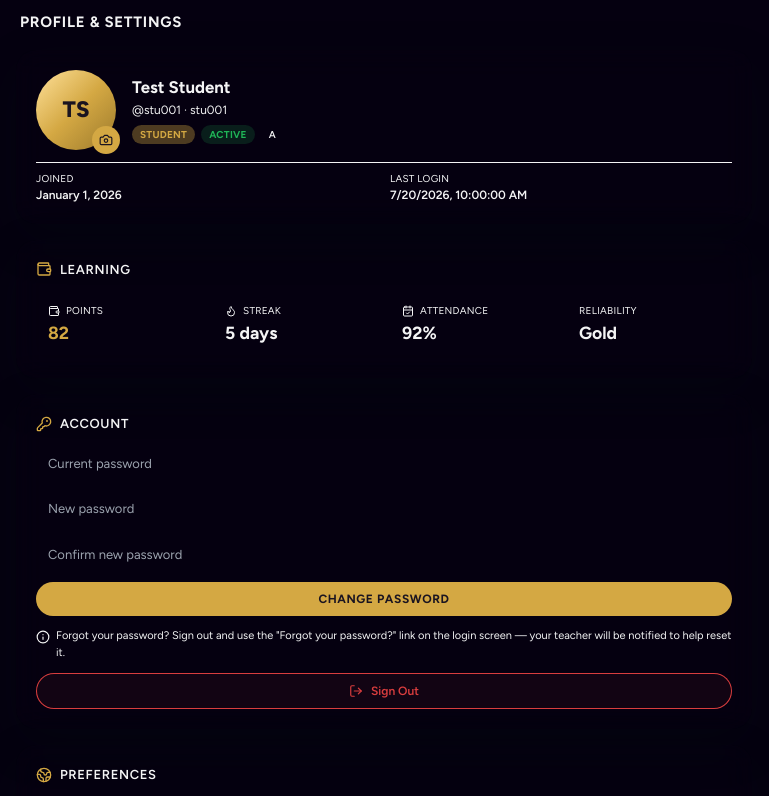
change-password form rejects a mismatched confirmation before calling the API
Expected: the element with test id "profile-header-card" is shown, x1=16 y1=50 x2=752 y2=224
Type "oldpass" into the password field with test id "profile-current-password-input" at (384, 464), box x1=36 y1=446 x2=732 y2=481
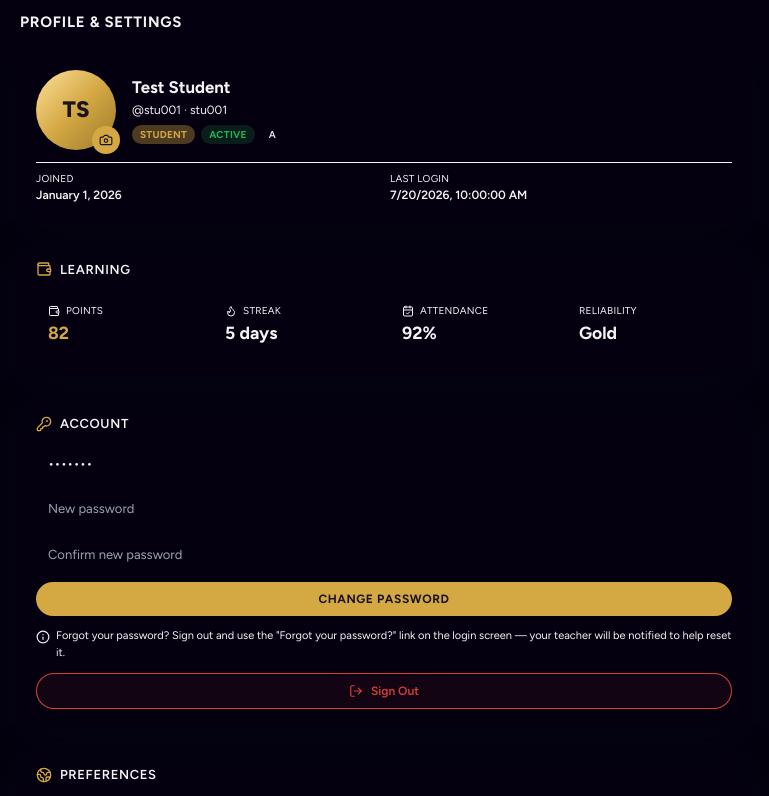
Type "newpass1" into the password field with test id "profile-new-password-input" at (384, 509), box x1=36 y1=491 x2=732 y2=527
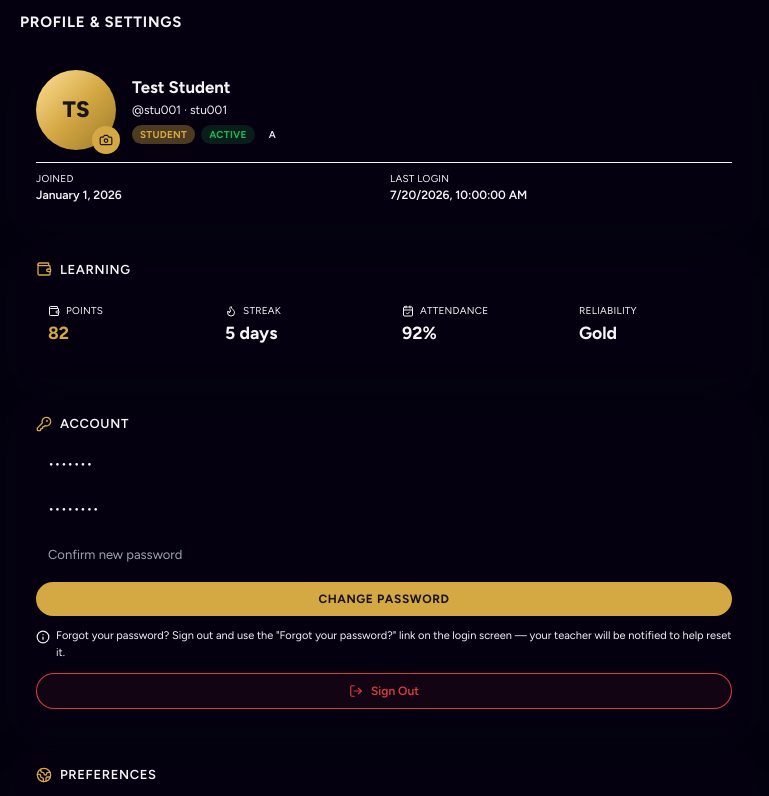
Type "different" into the password field with test id "profile-confirm-password-input" at (384, 555), box x1=36 y1=537 x2=732 y2=572
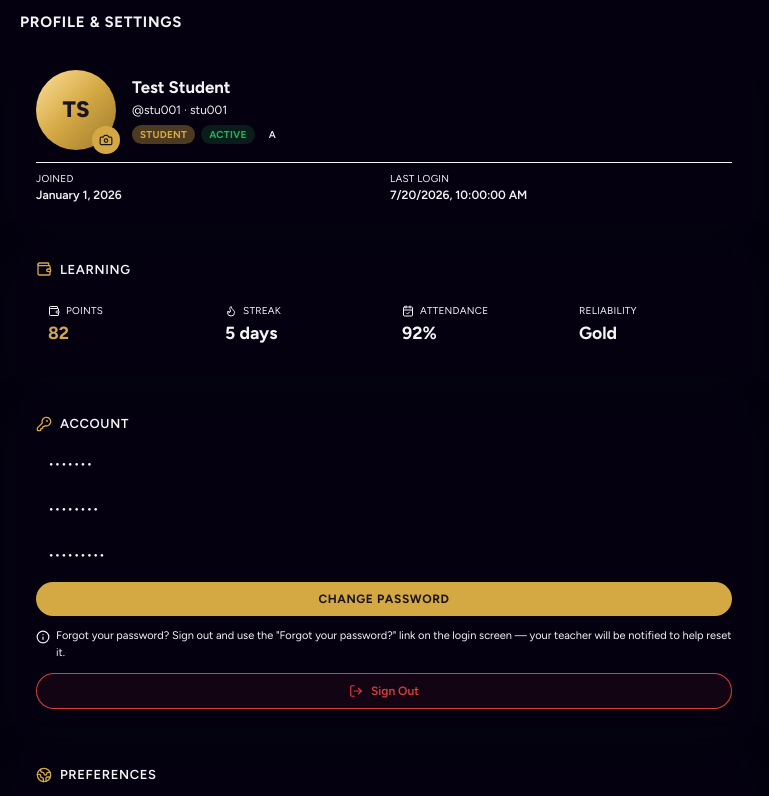
Click the button with test id "profile-change-password-submit" at (384, 599), box x1=36 y1=582 x2=732 y2=616
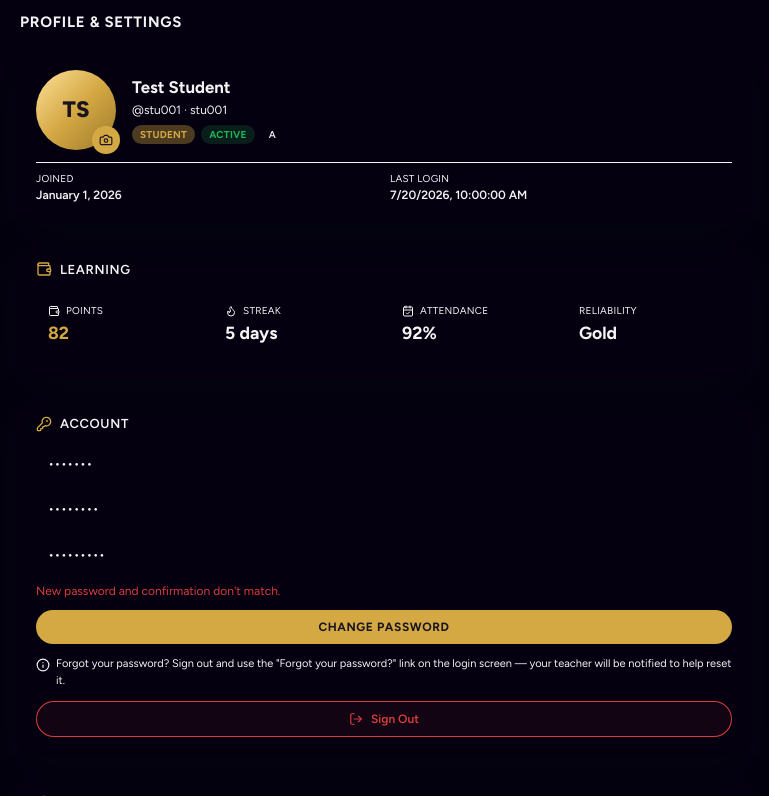
Expected: the text with test id "profile-change-password-error" shows "don't match", x1=36 y1=584 x2=280 y2=598
